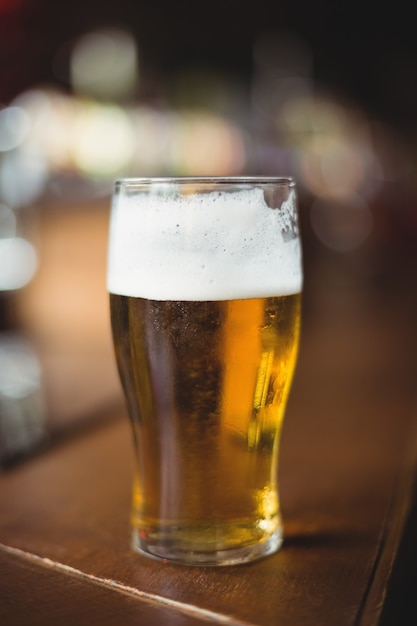alcohol: (100, 174, 307, 572)
